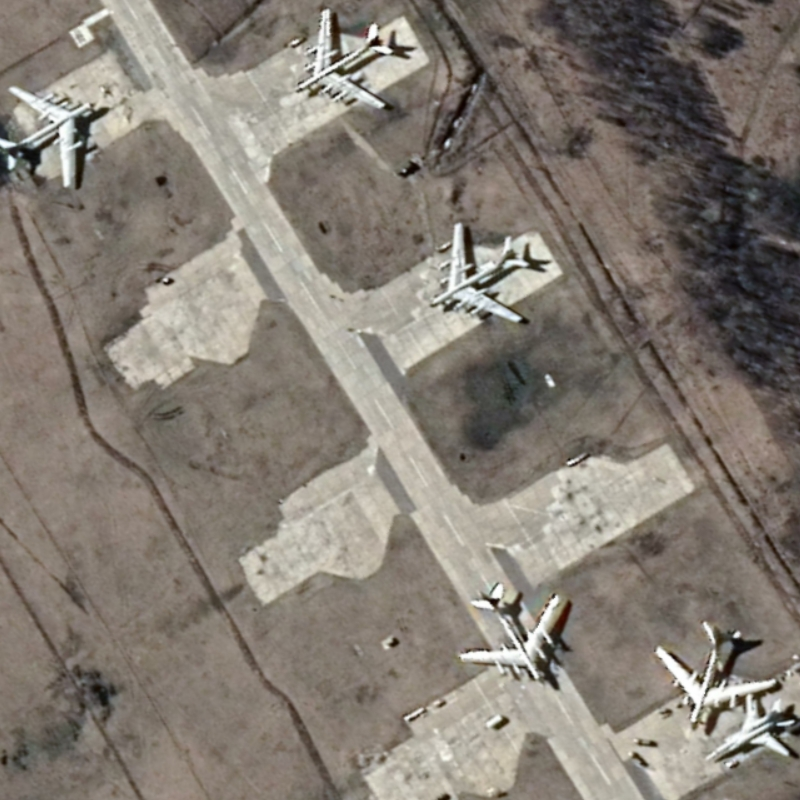A12: (703, 691, 798, 764)
A17: (653, 619, 779, 729), (427, 220, 533, 325), (293, 6, 395, 110), (458, 580, 561, 681), (1, 84, 97, 189)
